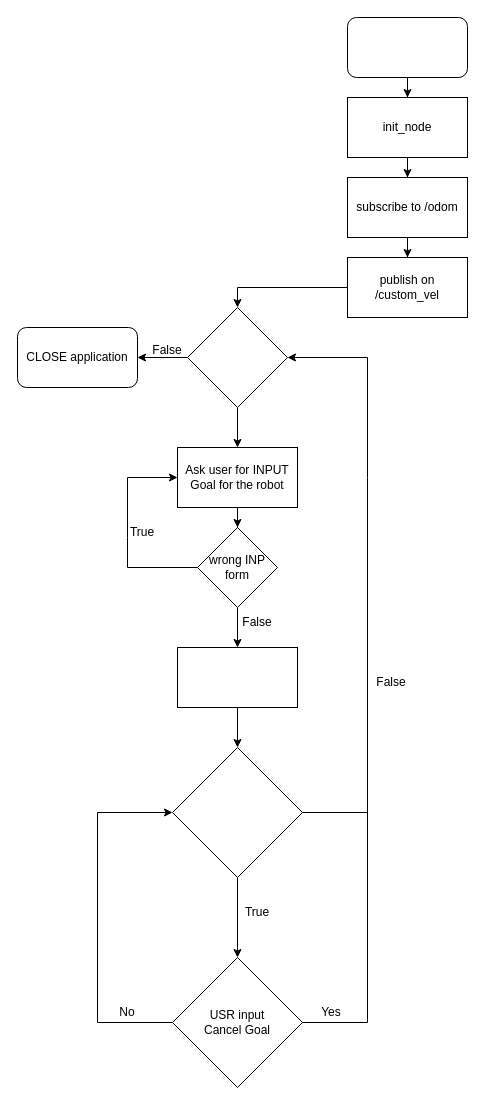
This 485x1105 diagram has some shape labels left out. Each missing label, with the centre of its shape:
"Goal status not SUCCEEDED" goes at (237,812).
"not is_shutdow:" goes at (237,357).
"Send the goal to the ACT server" goes at (237,677).
"START" goes at (407,47).
